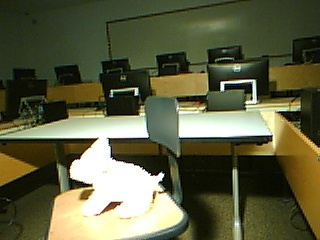piggy: (67, 134, 167, 219)
